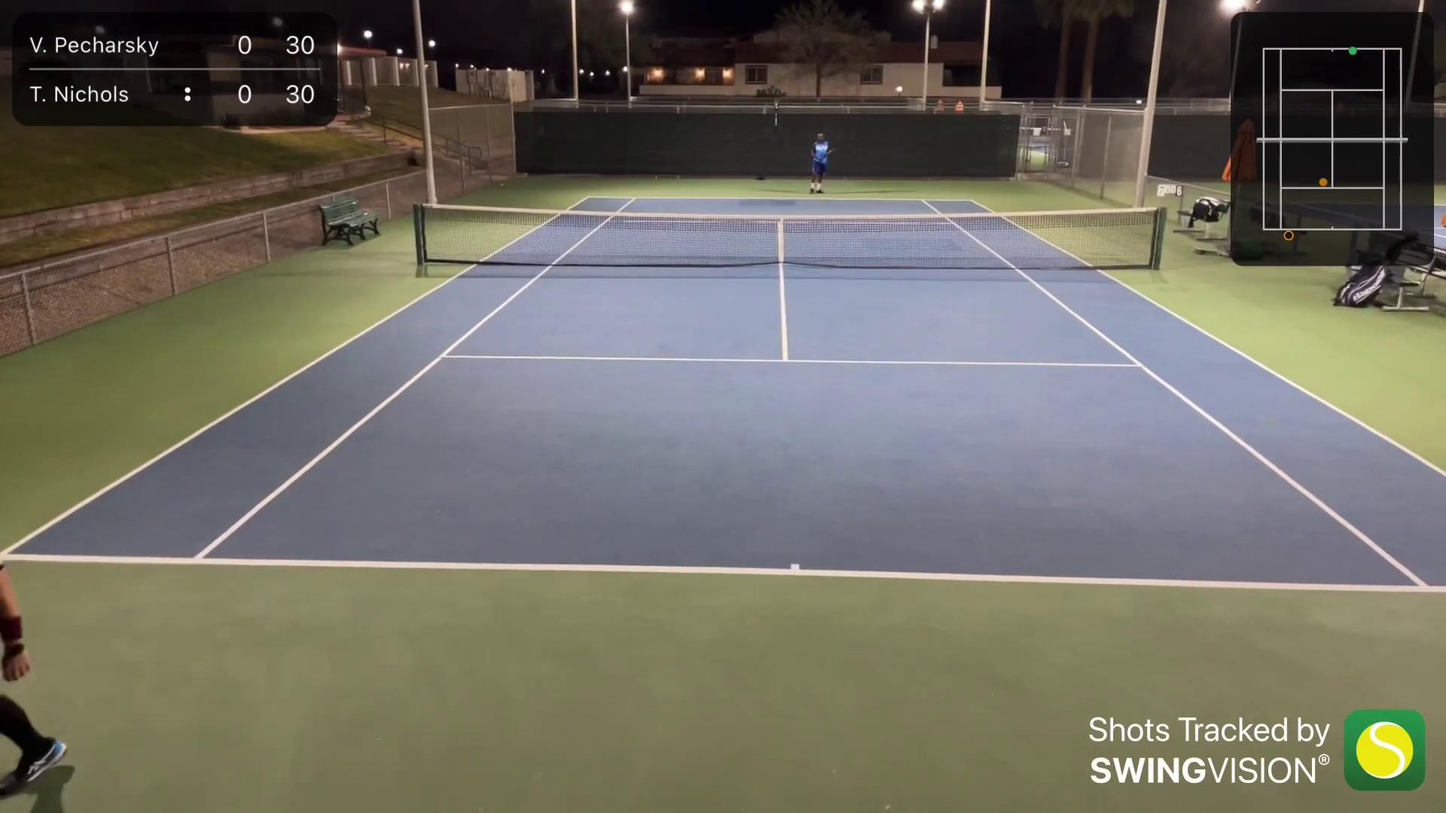ball: (499, 182, 506, 187), (653, 175, 659, 180)
